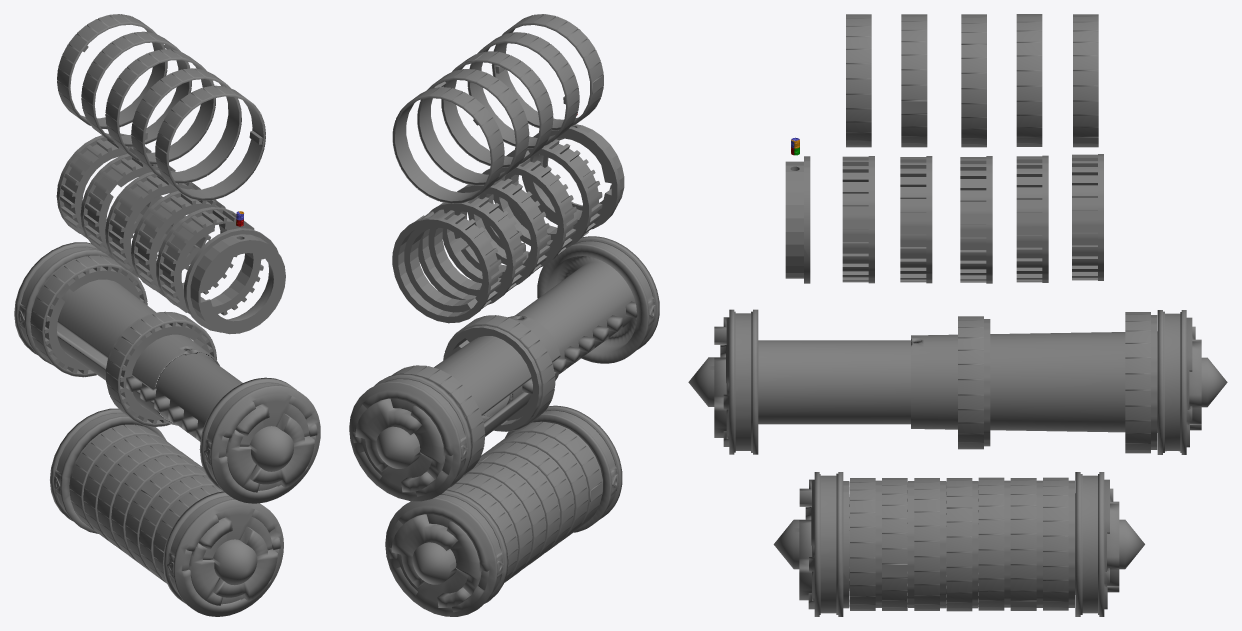
The model's file is cryptex.obj.
3 renders of one model, left to right at view 1: azimuth 30°, elevation 25°; view 2: azimuth 150°, elevation 25°; view 3: azimuth 270°, elevation 25°, orthographic. The views are drawn at different scales.
Parts seen in each view (by area): view 1: polySurface88, polySurface104, E_Engranaje7 polySurface64, E_Engranaje7 polySurface56, E_Engranaje7 polySurface66, E_Engranaje7 polySurface65, E_Engranaje7 polySurface67, E_Engranaje7 polySurface62, E_Engranaje7 polySurface60, E_Engranaje7 polySurface79, E_Engranaje7 polySurface31, E_Engranaje7 polySurface58 (+14 smaller); view 2: E_Engranaje7 polySurface64, polySurface88, E_Engranaje7 polySurface31, E_Engranaje7 polySurface55, E_Engranaje7 polySurface80, E_Engranaje7 polySurface58, E_Engranaje7 polySurface63, E_Engranaje7 polySurface79, E_Engranaje7 polySurface62, E_Engranaje7 polySurface66, E_Engranaje7 polySurface56, E_Engranaje7 polySurface67 (+13 smaller); view 3: E_Engranaje7 polySurface64, polySurface88, polySurface104, E_Engranaje7 polySurface31, E_Engranaje7 polySurface80, E_Engranaje7 polySurface66, E_Engranaje7 polySurface79, E_Engranaje7 polySurface60, E_Engranaje7 polySurface55, E_Engranaje7 polySurface82, E_Engranaje7 polySurface67, E_Engranaje7 polySurface33 (+22 smaller).
Part boxes in pixels (box(x1,y1,x2,y2)): polySurface88: box(126, 354, 320, 503); polySurface104: box(163, 491, 283, 616); E_Engranaje7 polySurface64: box(14, 242, 219, 425); E_Engranaje7 polySurface56: box(184, 228, 285, 334); E_Engranaje7 polySurface66: box(156, 207, 264, 315); E_Engranaje7 polySurface65: box(155, 85, 265, 200); E_Engranaje7 polySurface67: box(131, 68, 241, 183); E_Engranaje7 polySurface62: box(105, 49, 215, 164); E_Engranaje7 polySurface60: box(131, 189, 236, 297); E_Engranaje7 polySurface79: box(105, 170, 210, 277); E_Engranaje7 polySurface31: box(50, 408, 166, 533); E_Engranaje7 polySurface58: box(57, 14, 167, 129); E_Engranaje7 polySurface64: box(349, 315, 560, 501); polySurface88: box(482, 236, 659, 418); E_Engranaje7 polySurface31: box(385, 489, 508, 616); E_Engranaje7 polySurface55: box(392, 209, 502, 323); E_Engranaje7 polySurface80: box(418, 196, 526, 304); E_Engranaje7 polySurface58: box(392, 87, 504, 203); E_Engranaje7 polySurface63: box(417, 69, 529, 185); E_Engranaje7 polySurface79: box(442, 178, 550, 285); E_Engranaje7 polySurface62: box(441, 51, 553, 167); E_Engranaje7 polySurface66: box(493, 139, 602, 248); E_Engranaje7 polySurface56: box(522, 124, 624, 229); E_Engranaje7 polySurface67: box(467, 32, 579, 148); E_Engranaje7 polySurface64: box(911, 310, 1227, 454); polySurface88: box(688, 309, 917, 454); polySurface104: box(773, 472, 843, 616); E_Engranaje7 polySurface31: box(849, 472, 1144, 616); E_Engranaje7 polySurface80: box(1016, 155, 1048, 282); E_Engranaje7 polySurface66: box(842, 156, 874, 283); E_Engranaje7 polySurface79: box(960, 156, 992, 283); E_Engranaje7 polySurface60: box(900, 156, 932, 283); E_Engranaje7 polySurface55: box(1072, 154, 1103, 280); E_Engranaje7 polySurface82: box(1125, 312, 1150, 453); E_Engranaje7 polySurface67: box(901, 14, 927, 147); E_Engranaje7 polySurface33: box(946, 478, 972, 611).
Size of the model in its own units: 5.63 by 25.16 by 20.84.
6 materials, 1 textured.
